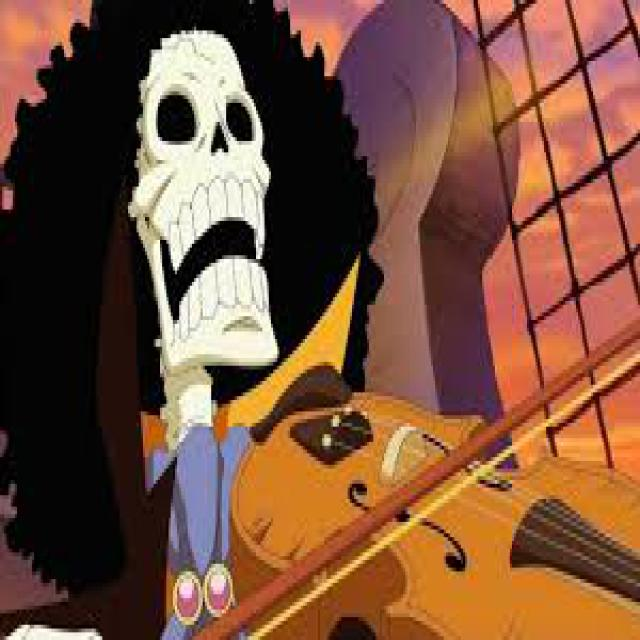Brook: (0, 0, 373, 640)
